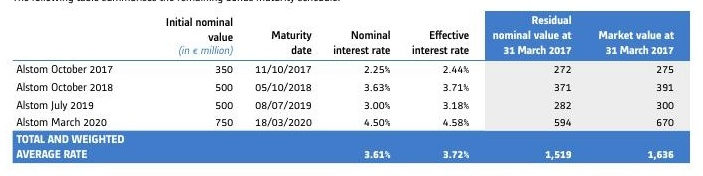table: (0, 0, 703, 176)
